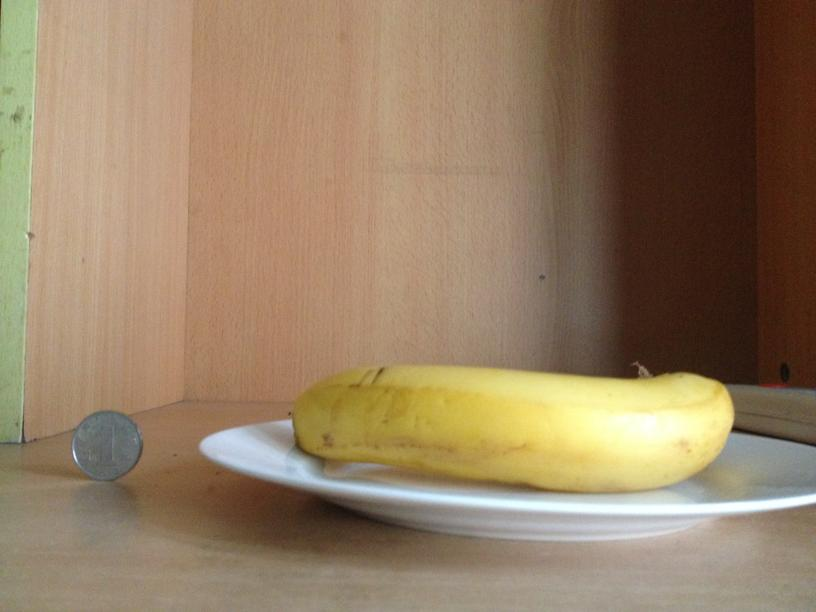banana: (293, 367, 732, 490)
coin: (70, 412, 143, 481)
